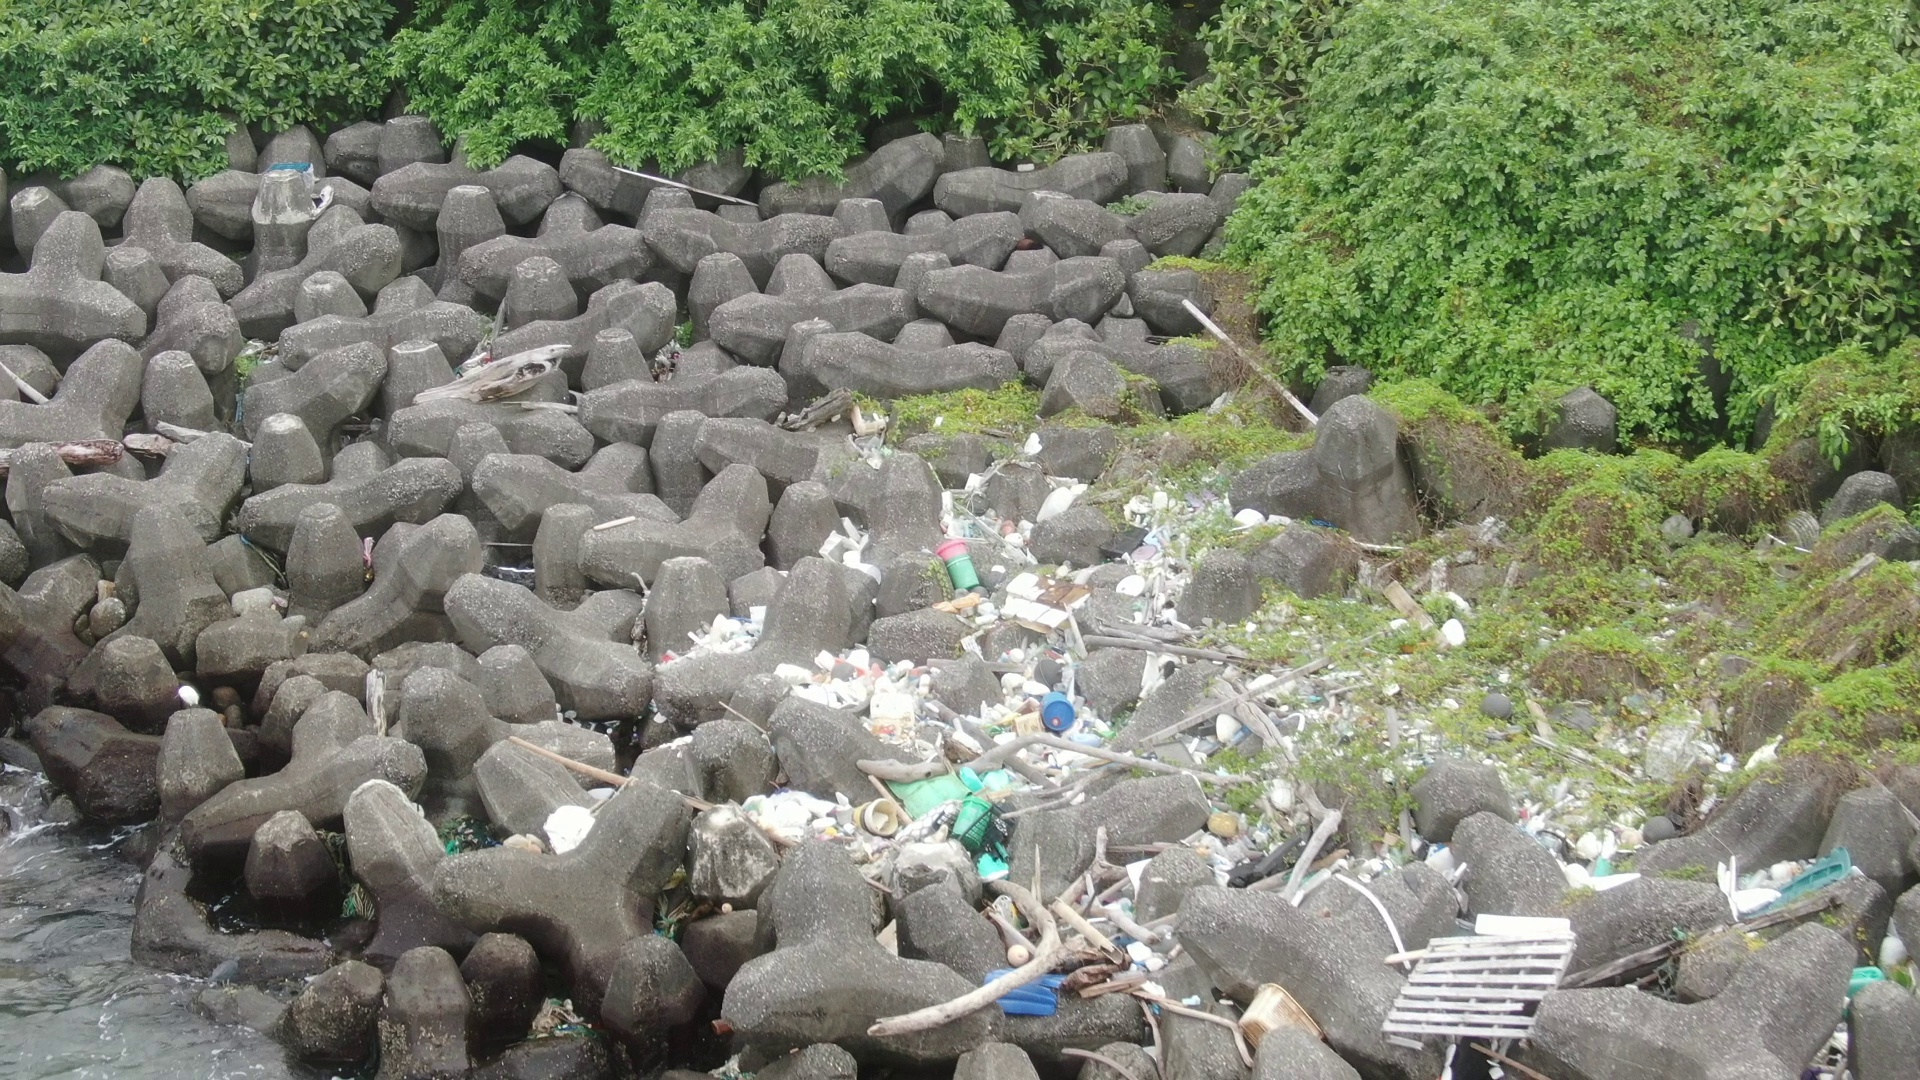garbage: (702, 425, 1338, 969), (1436, 702, 1705, 895), (1377, 894, 1596, 1062), (977, 965, 1331, 1060), (1714, 840, 1898, 1017), (498, 771, 622, 866), (1366, 567, 1484, 649), (645, 860, 696, 947), (266, 154, 342, 211), (433, 814, 502, 860), (336, 874, 386, 927), (529, 994, 589, 1033), (355, 522, 382, 595), (651, 335, 682, 386)
